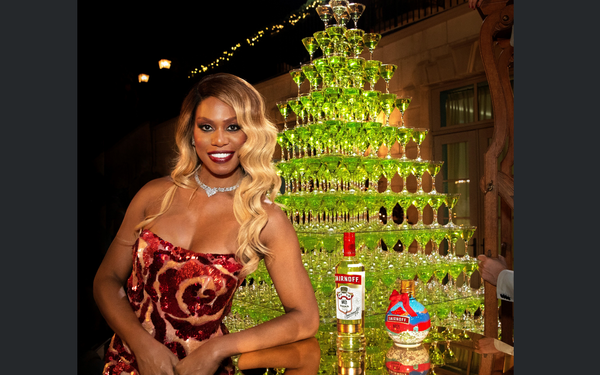Smirnoff: (328, 225, 375, 346)
